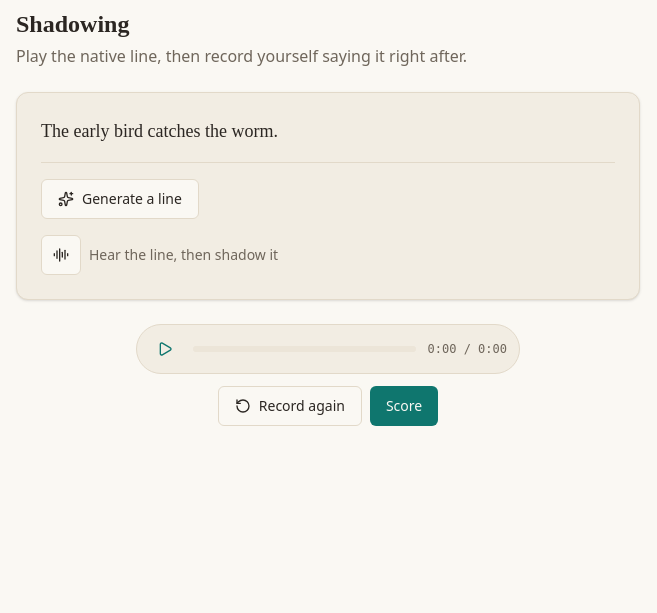
Test: Shadowing › should clear the generation error when advancing to the next line
Click the button "Generate a line" at (120, 199), box [41,179,199,219]
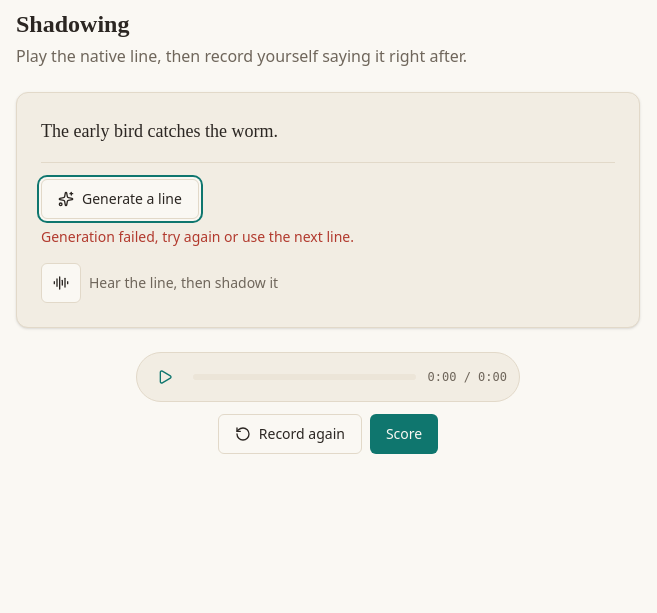
Check: the message shows "Generation failed", box [41,227,354,246]
Click the button "Score" at (404, 434), box [370,414,438,454]
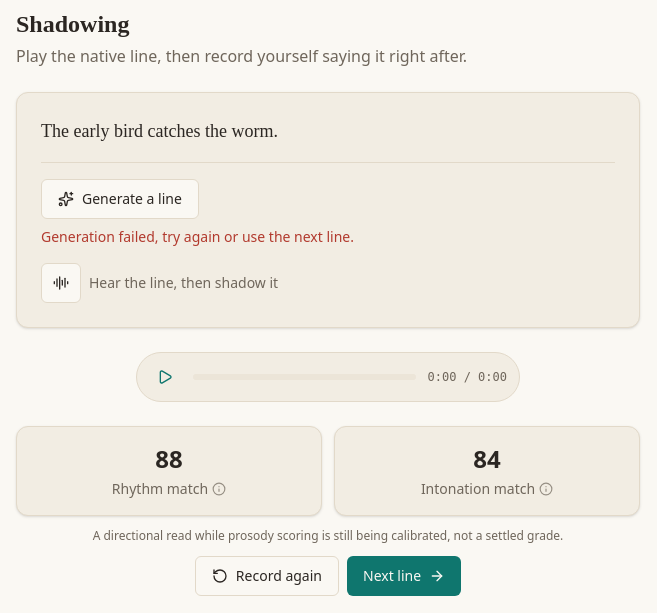
Check: the text "Rhythm match" is shown, box [112,479,226,499]
Click the button "Next line" at (404, 576), box [347,556,461,596]
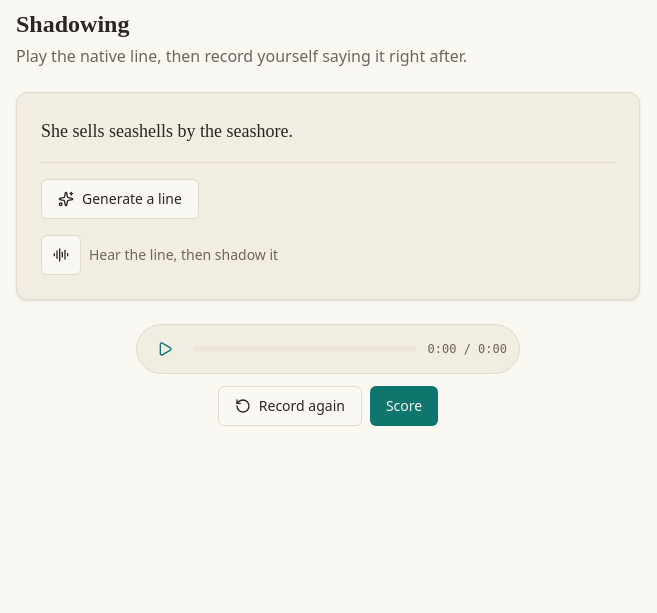
Check: the text "Generation failed" is gone
